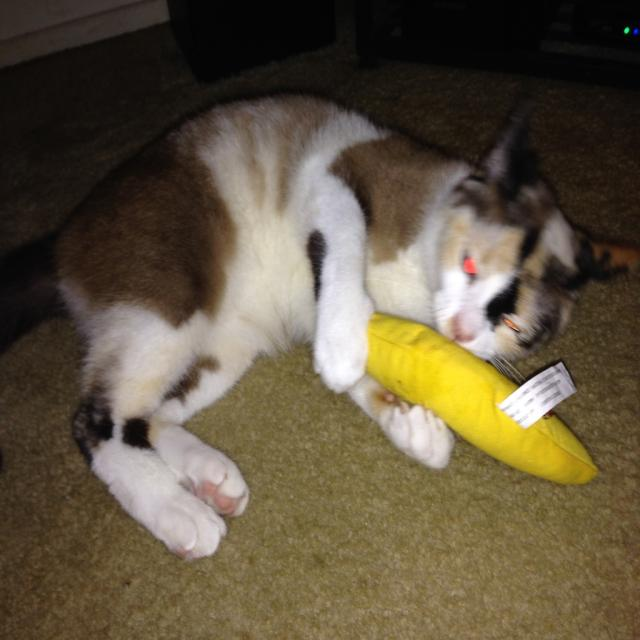Cat: (0, 95, 639, 560)
